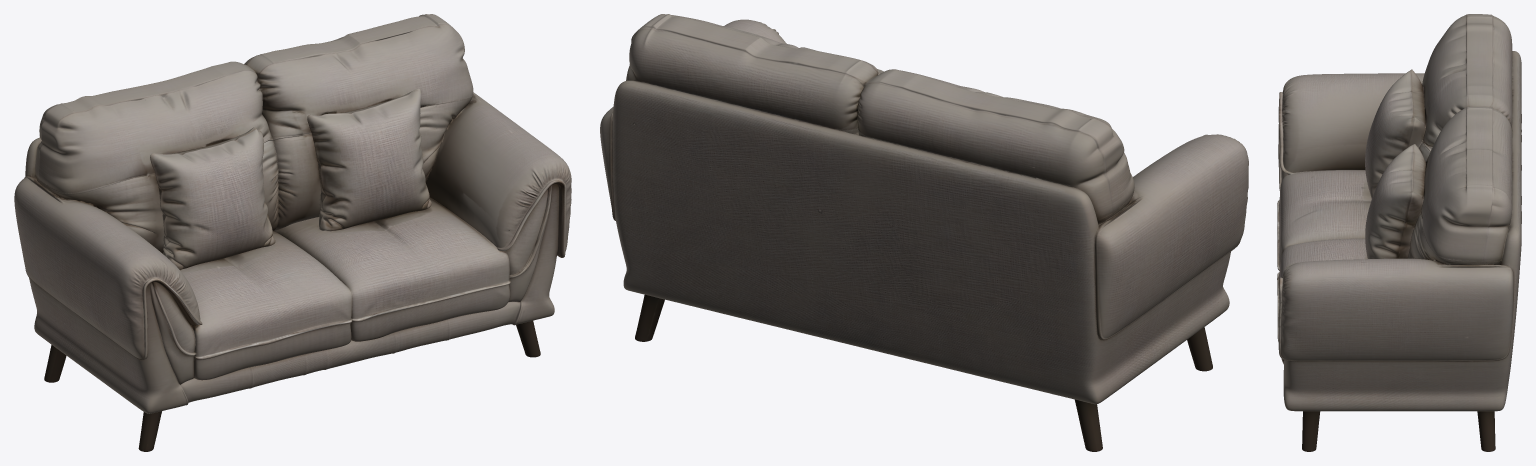
3 views of the same model, side by side, from view 1: azimuth 30°, elevation 25°; view 2: azimuth 150°, elevation 25°; view 3: azimuth 270°, elevation 25° (orthographic). The views are drawn at different scales.
Visible parts, largest first — view 1: node_0; view 2: node_0; view 3: node_0.
Boxes of the visible parts, x1,y1,x2,y2 form: node_0: (14,14,571,451); node_0: (600,14,1248,451); node_0: (1277,14,1521,451).
Size of the model in its own units: 1.07 by 0.6229 by 0.5305.
1 material, 1 textured.
